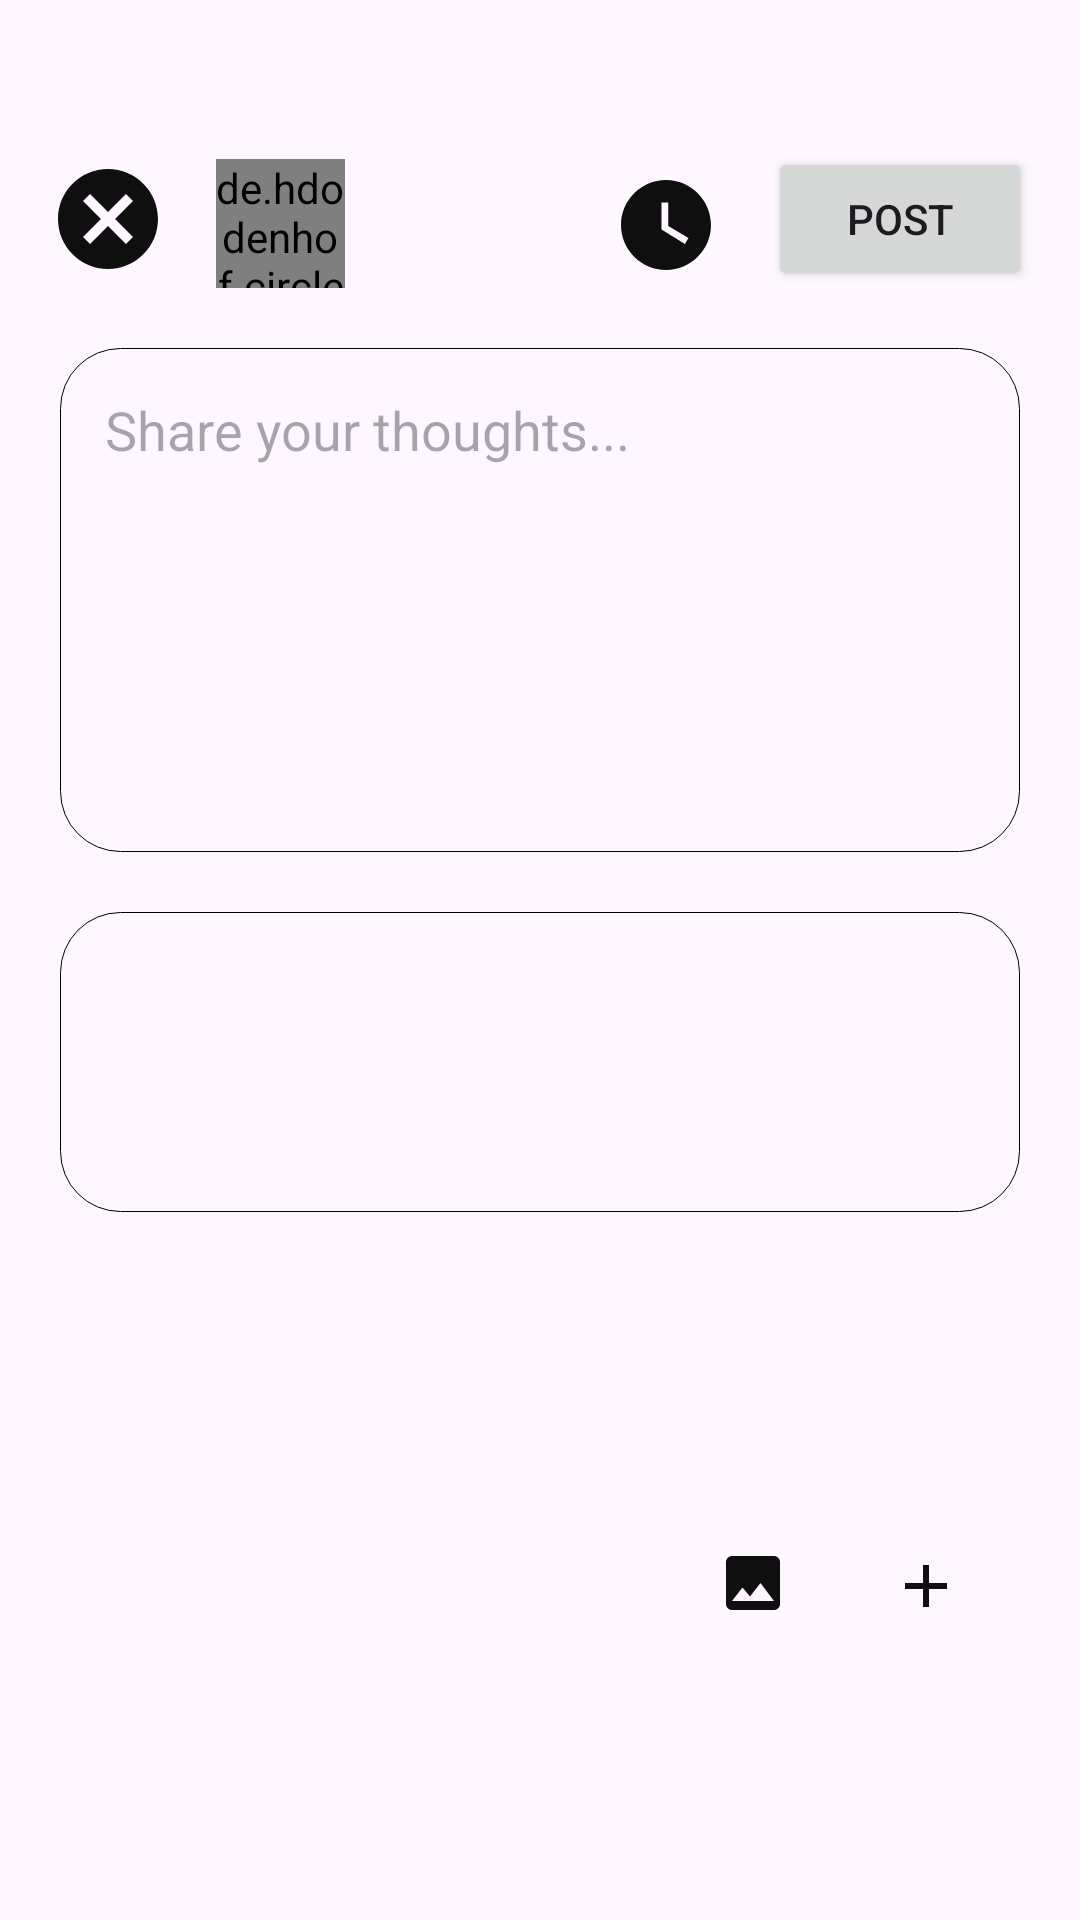

Icons on this 1080*1920 Android screen, each with its box as [x1, y1, x2, y2]:
add: [905, 1565, 947, 1607]
cancel: [58, 169, 158, 269]
watch later: [621, 180, 711, 270]
